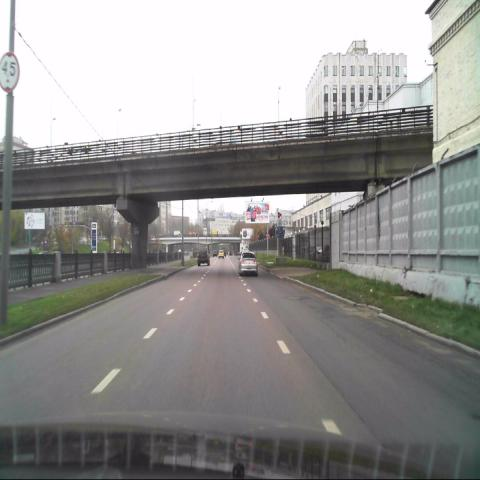3_13: (1, 52, 20, 92)
